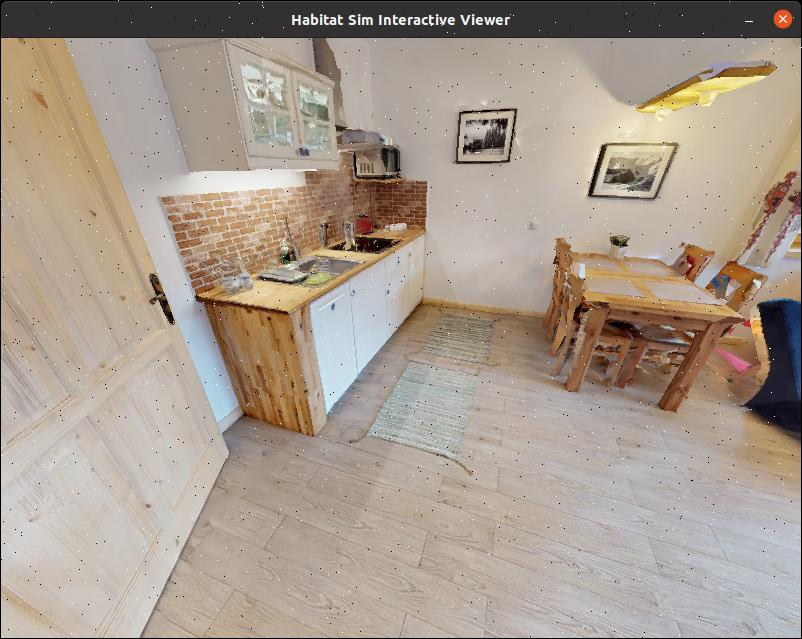table: (537, 225, 765, 424)
